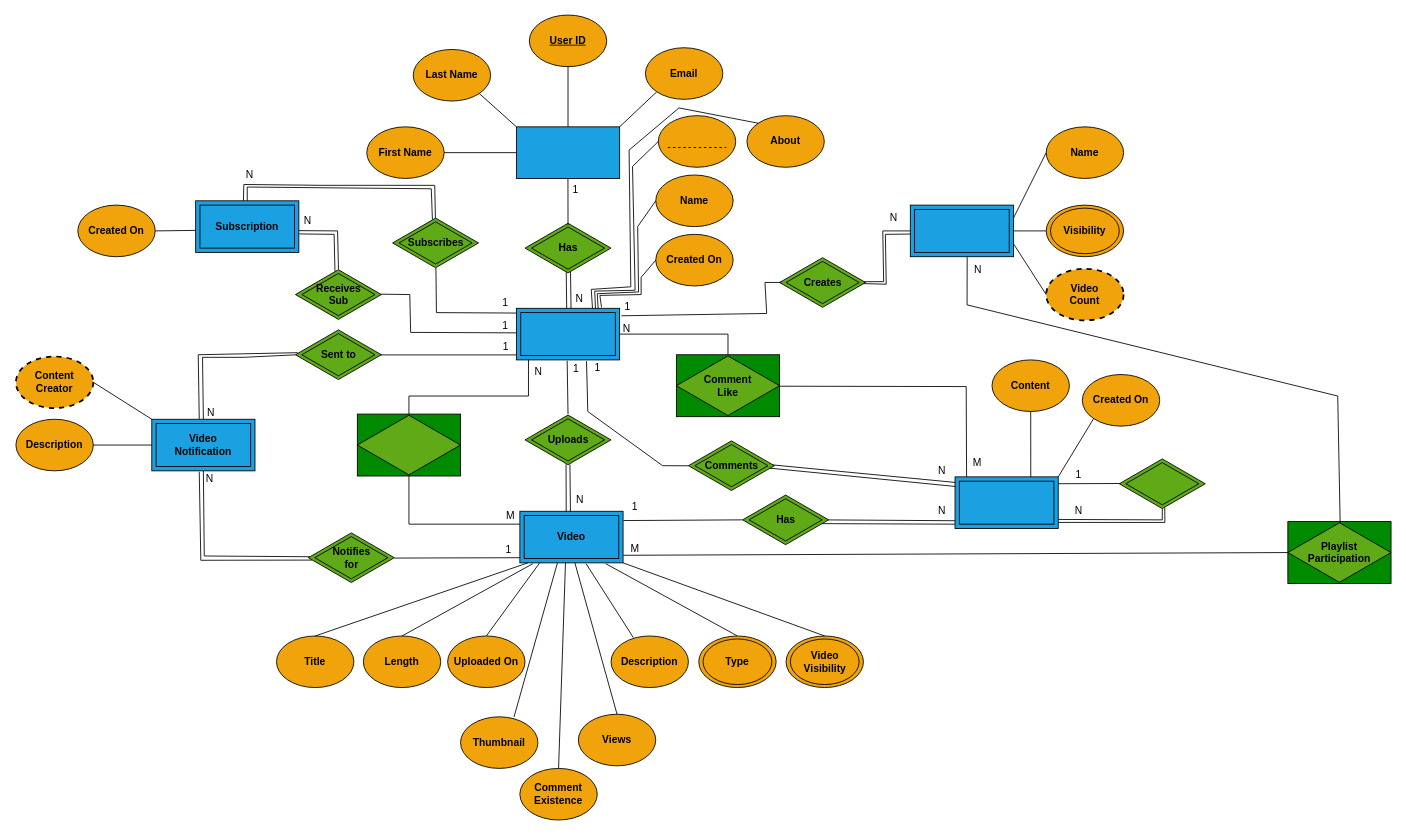
This 1406x835 diagram has some shape labels left out. Here are the shapes that lost their labels. From the top down, the centre of each, then its label:
the point at 568,152: Account
the point at 696,141: Channel ID
the point at 961,230: Playlist
the point at 567,334: Channel
the point at 408,444: Video Like
the point at 1006,502: Comment
the point at 1162,483: Replied By
